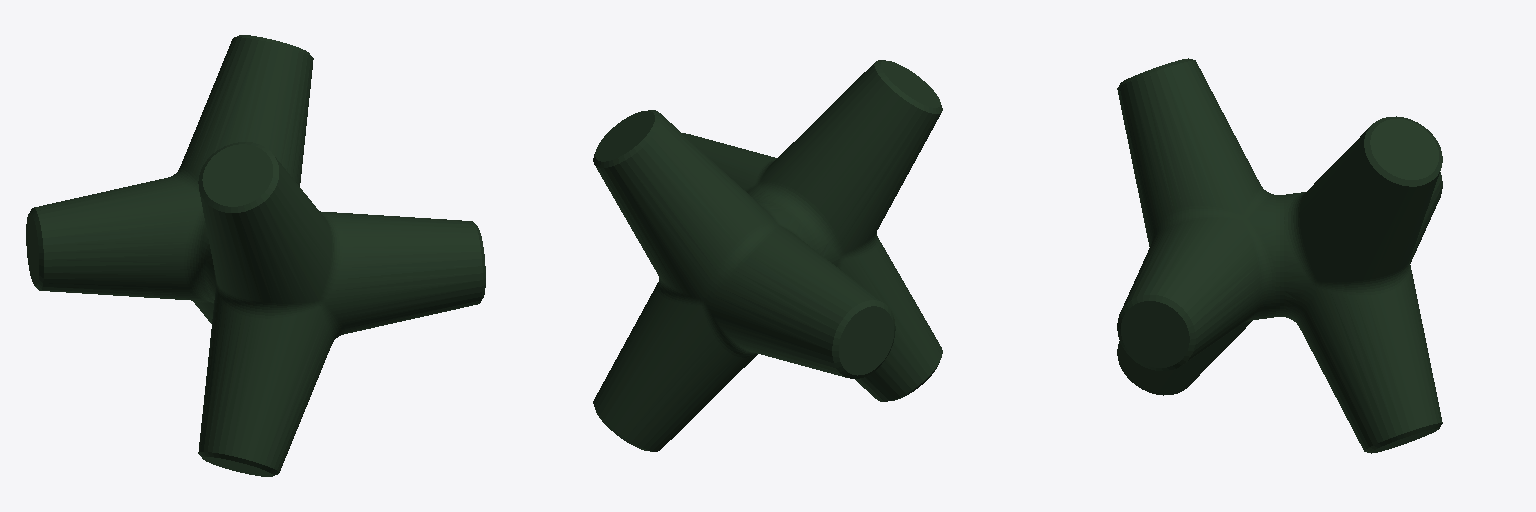
The model's file is seawall.obj.
3 views of the same model, side by side, from view 1: azimuth 30°, elevation 25°; view 2: azimuth 150°, elevation 25°; view 3: azimuth 270°, elevation 25° (orthographic).
Parts seen in each view (by area): view 1: uploads_files_[number redacted]_marine+concrete+structures-COARSE; view 2: uploads_files_[number redacted]_marine+concrete+structures-COARSE; view 3: uploads_files_[number redacted]_marine+concrete+structures-COARSE.
Boxes of the visible parts, <box> form: uploads_files_[number redacted]_marine+concrete+structures-COARSE: <box>26,35,485,476</box>; uploads_files_[number redacted]_marine+concrete+structures-COARSE: <box>593,60,942,451</box>; uploads_files_[number redacted]_marine+concrete+structures-COARSE: <box>1117,58,1442,453</box>.
Bounding box in the file's own units: 5.02 × 4.62 × 4.13.